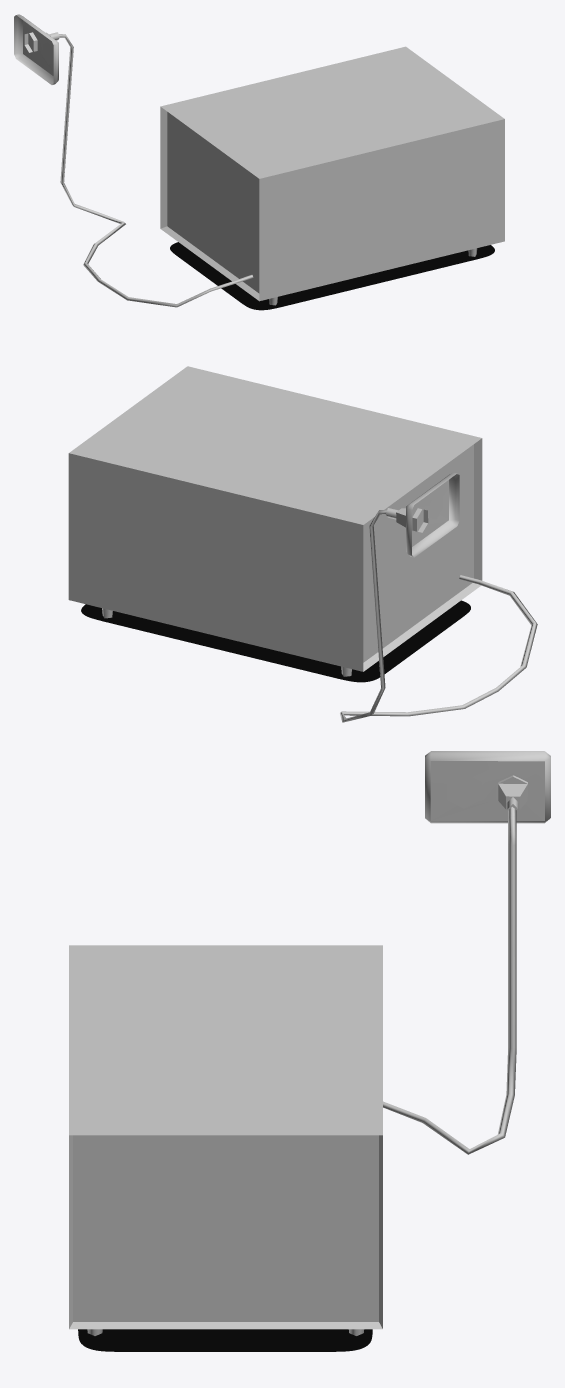
The model's file is monitor_scope_LOD.fbx.
3 views of the same model, one above another, from view 1: azimuth 30°, elevation 25°; view 2: azimuth 150°, elevation 25°; view 3: azimuth 270°, elevation 25° (orthographic). The views are drawn at different scales.
Parts seen in each view (by area): view 1: monitor_scope_LOD, net_cable; view 2: monitor_scope_LOD, net_cable; view 3: monitor_scope_LOD, net_cable.
Boxes of the visible parts, x1,y1,x2,y2 form: monitor_scope_LOD: (160,46,504,310); net_cable: (14,14,253,307); monitor_scope_LOD: (68,366,482,682); net_cable: (340,472,537,722); monitor_scope_LOD: (69,945,382,1351); net_cable: (383,751,550,1154).
Bounding box in the file's own units: 69.7 × 38.68 × 55.59.
